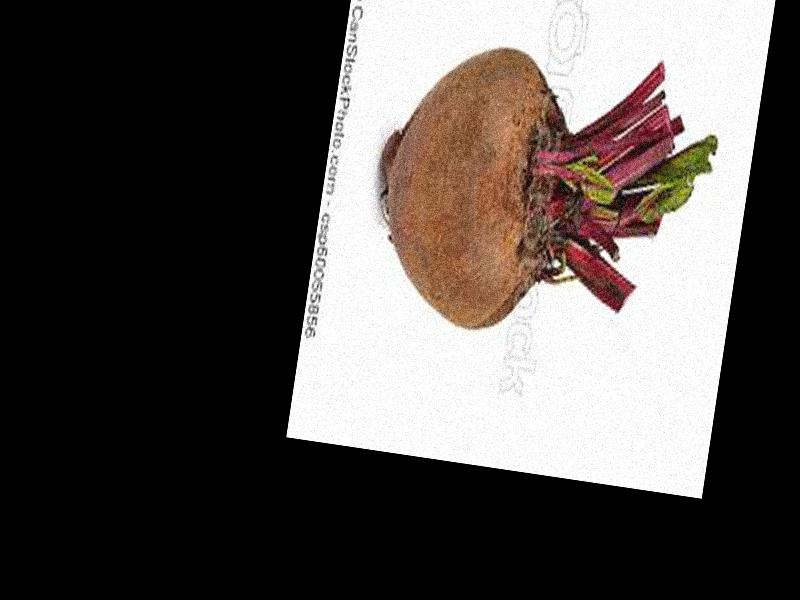Beet: (359, 24, 727, 363)
